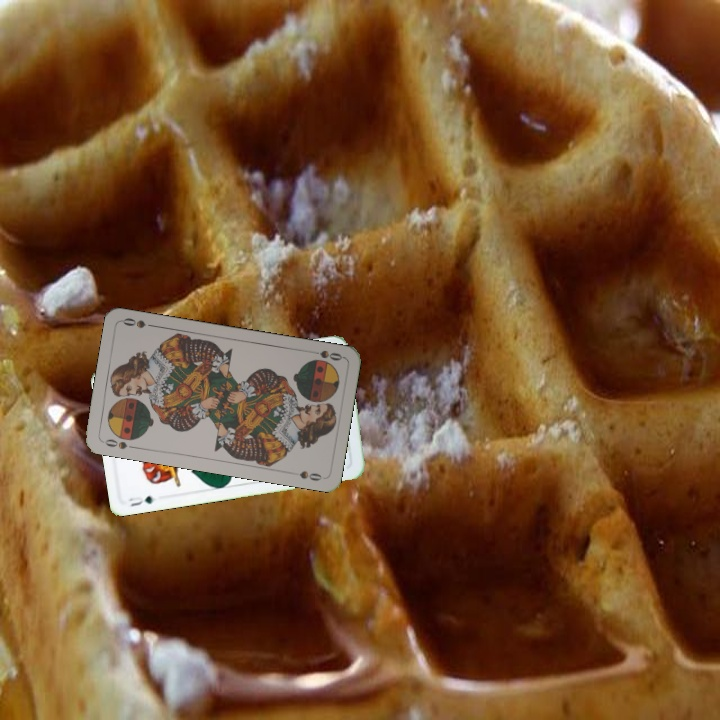GU: (125, 491, 156, 509)
SO: (305, 346, 345, 363), (99, 435, 139, 452)
